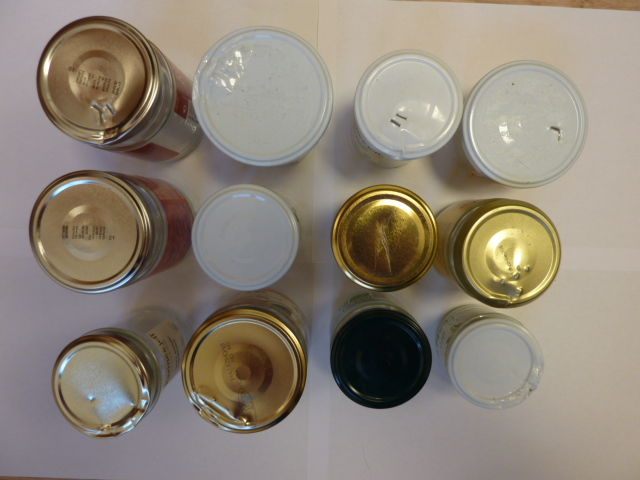damaged: (192, 26, 334, 166), (36, 15, 160, 145), (465, 59, 588, 187), (182, 312, 307, 433), (332, 185, 441, 292), (456, 200, 563, 308), (51, 332, 153, 440), (447, 318, 547, 412)
intact: (29, 170, 150, 294), (328, 306, 431, 410)
